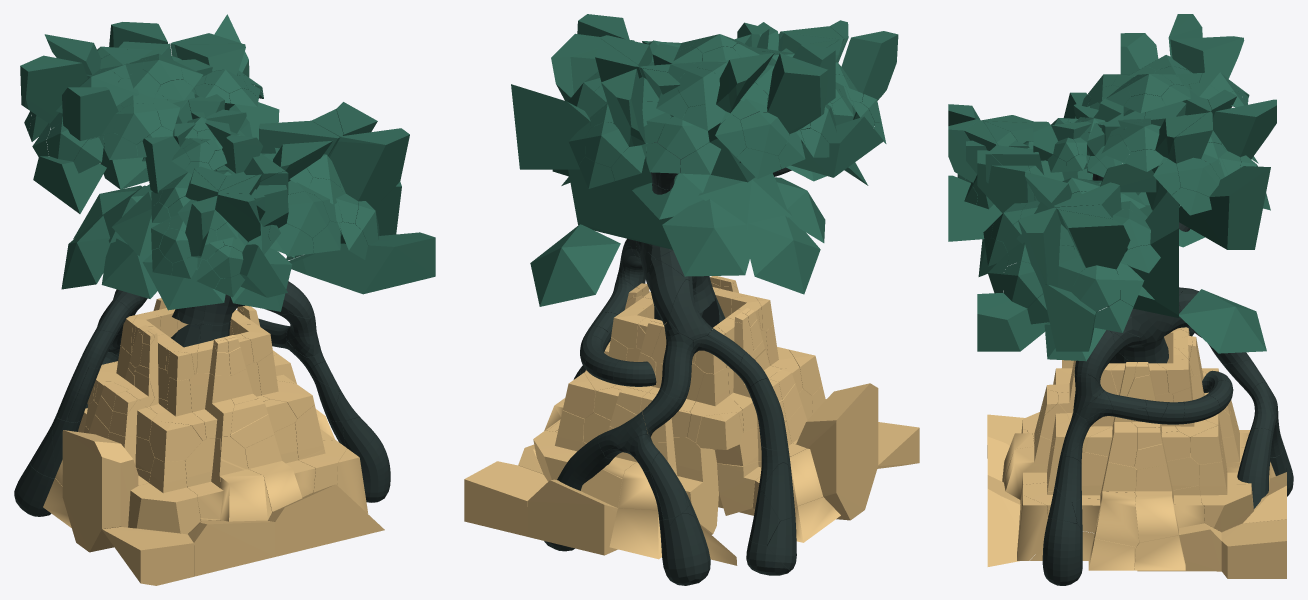
File: BrokenHomeTree.fbx
3 views of the same model, side by side, from view 1: azimuth 30°, elevation 25°; view 2: azimuth 150°, elevation 25°; view 3: azimuth 270°, elevation 25° (orthographic). The views are drawn at different scales.
Parts seen in each view (by area): view 1: Home_cell.062, Sphere.012_cell.013, Sphere.004, Sphere.006, Home_cell.018, Sphere.012_cell.022, Home_cell.025, Home_cell.033, Home_cell.060, Home_cell.070, Home_cell.008, Sphere.006_cell.004 (+78 smaller); view 2: Sphere.004, Home_cell.062, Home_cell, Sphere.004_cell.012, Canopy5, Sphere.012_cell.025, Home_cell.028, Home_cell.037, Sphere.006_cell.004, Sphere.008_cell.010, Canopy, Tree_cell.040 (+70 smaller); view 3: Sphere.004_cell.012, Sphere.012_cell.025, Home_cell.037, Canopy5, Sphere.012_cell.013, Sphere.012_cell.028, Home_cell.038, Sphere.004_cell.028, Home_cell.015, Sphere.012_cell.021, Home_cell.018, Sphere.012_cell.022 (+87 smaller).
Boxes of the visible parts, left/top/right/bottom form: Home_cell.062: left=62, top=430, right=138, bottom=552; Sphere.012_cell.013: left=289, top=232, right=435, bottom=294; Sphere.004: left=61, top=184, right=157, bottom=298; Sphere.006: left=112, top=191, right=294, bottom=311; Home_cell.018: left=268, top=484, right=384, bottom=556; Sphere.012_cell.022: left=286, top=128, right=409, bottom=260; Home_cell.025: left=128, top=458, right=200, bottom=534; Home_cell.033: left=188, top=520, right=275, bottom=576; Home_cell.060: left=102, top=527, right=193, bottom=585; Home_cell.070: left=197, top=436, right=271, bottom=521; Home_cell.008: left=245, top=423, right=315, bottom=511; Sphere.006_cell.004: left=20, top=55, right=98, bottom=139; Sphere.004: left=632, top=173, right=825, bottom=294; Home_cell.062: left=796, top=383, right=878, bottom=520; Home_cell: left=527, top=479, right=617, bottom=555; Sphere.004_cell.012: left=511, top=84, right=622, bottom=169; Canopy5: left=530, top=224, right=620, bottom=306; Sphere.012_cell.025: left=568, top=122, right=673, bottom=249; Home_cell.028: left=618, top=437, right=718, bottom=534; Home_cell.037: left=464, top=461, right=547, bottom=536; Sphere.006_cell.004: left=739, top=53, right=828, bottom=162; Sphere.008_cell.010: left=832, top=31, right=898, bottom=125; Canopy: left=698, top=173, right=791, bottom=230; Tree_cell.040: left=662, top=513, right=710, bottom=585; Sphere.004_cell.012: left=1179, top=166, right=1270, bottom=249; Sphere.012_cell.025: left=1112, top=189, right=1178, bottom=317; Home_cell.037: left=1221, top=519, right=1286, bottom=578; Canopy5: left=1179, top=289, right=1266, bottom=353; Sphere.012_cell.013: left=977, top=293, right=1048, bottom=351; Sphere.012_cell.028: left=1058, top=209, right=1130, bottom=269; Home_cell.038: left=1199, top=456, right=1253, bottom=532; Sphere.004_cell.028: left=1210, top=99, right=1276, bottom=167; Home_cell.015: left=1082, top=491, right=1139, bottom=546; Sphere.012_cell.021: left=1042, top=284, right=1098, bottom=351; Home_cell.018: left=987, top=475, right=1042, bottom=566; Sphere.012_cell.022: left=1018, top=207, right=1073, bottom=291.
Bounding box in the file's own units: 280 × 416 × 287.
